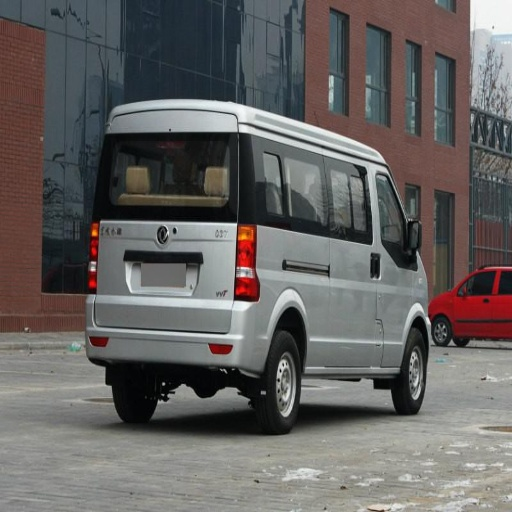back_bumper: (85, 296, 245, 364)
back_right_door: (307, 298, 341, 363)
tailgate: (99, 196, 224, 251)
trunk: (94, 207, 239, 335), (240, 265, 321, 370)
